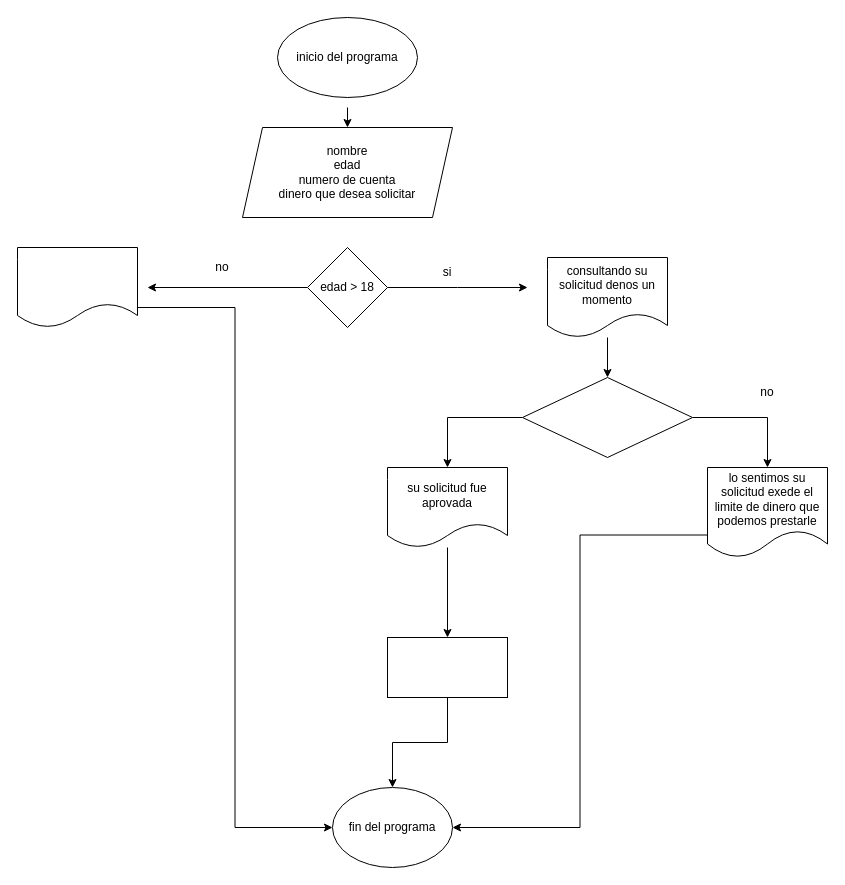
Some shapes in this 845 by 885 pixel diagram are drawn without their labels. Here are the shapes that lost their labels. From the top down, the centre of each, then its label:
point (77, 287): lo sentimos no admitimos prestamos a menores
point (607, 417): dinero solicitado < 6000000
point (447, 667): se agrega el dinero en la cuenta bancaria
